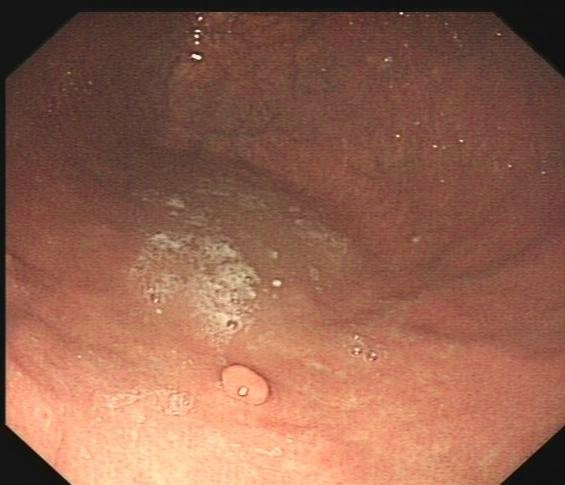Polyp: (216, 357, 273, 408)
